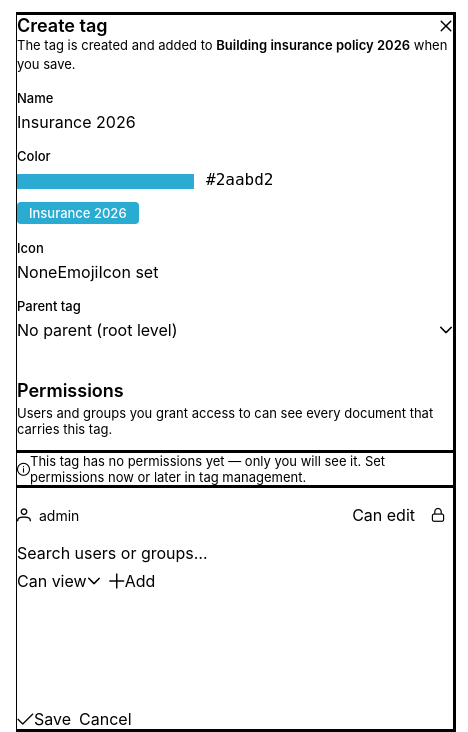
Test: TagCreatePanel — a create the server refuses › falls back to a plain failure message when the server names no reason
Step 1. Click the button "Save" → (44, 719), box x1=17 y1=709 x2=71 y2=729
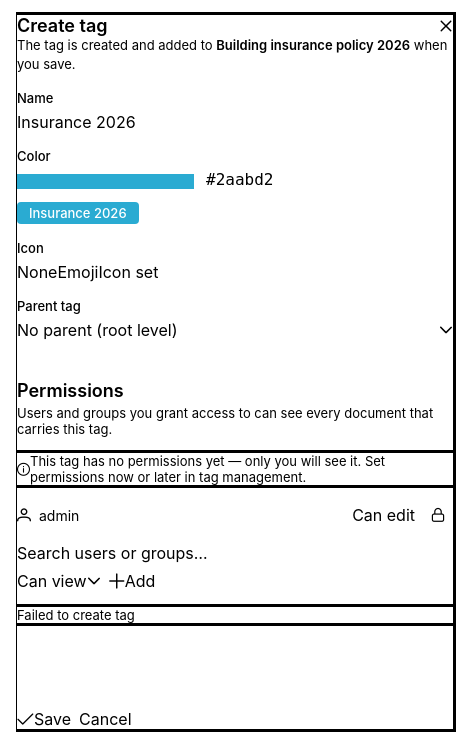
Check: the message with class "tag-create-error" reads "Failed to create tag", box x1=17 y1=607 x2=135 y2=623
